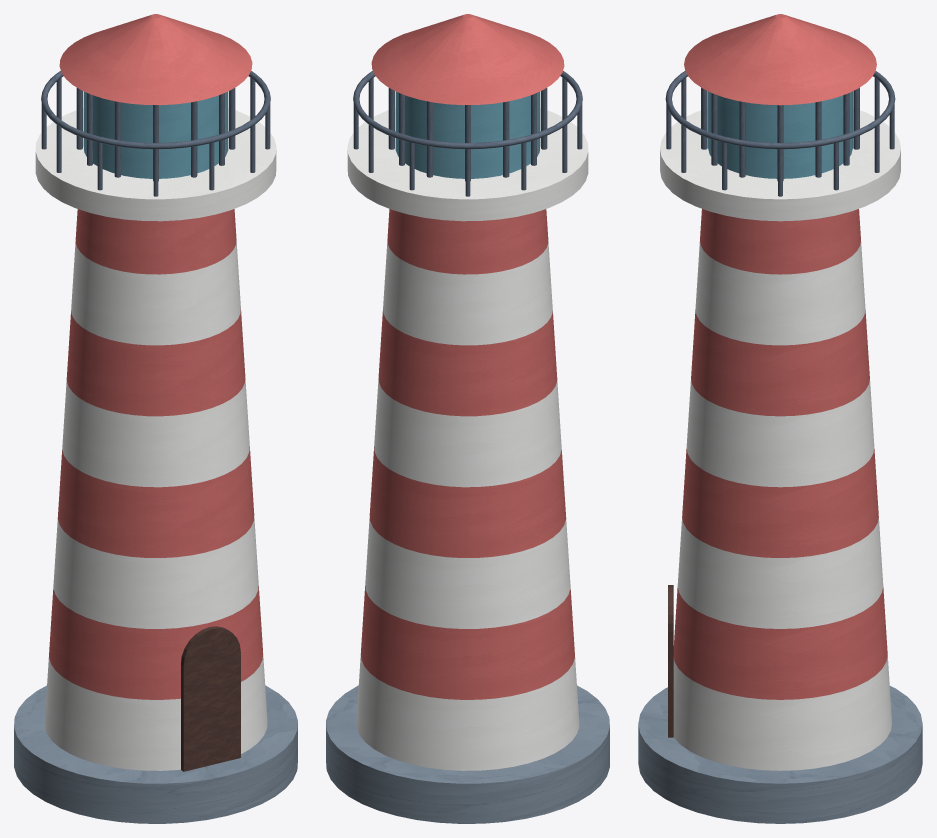
The model's file is lighthouse.glb.
3 renders of one model, left to right at view 1: azimuth 30°, elevation 25°; view 2: azimuth 150°, elevation 25°; view 3: azimuth 270°, elevation 25°, orthographic.
Parts seen in each view (by area): view 1: lighthouse; view 2: lighthouse; view 3: lighthouse.
Boxes of the visible parts, x1,y1,x2,y2 form: lighthouse: (14,14,297,823); lighthouse: (326,14,609,823); lighthouse: (638,14,922,823).
Size of the model in its own units: 2.24 by 6.5 by 2.24.
Materials: 1 (1 with a texture image).
